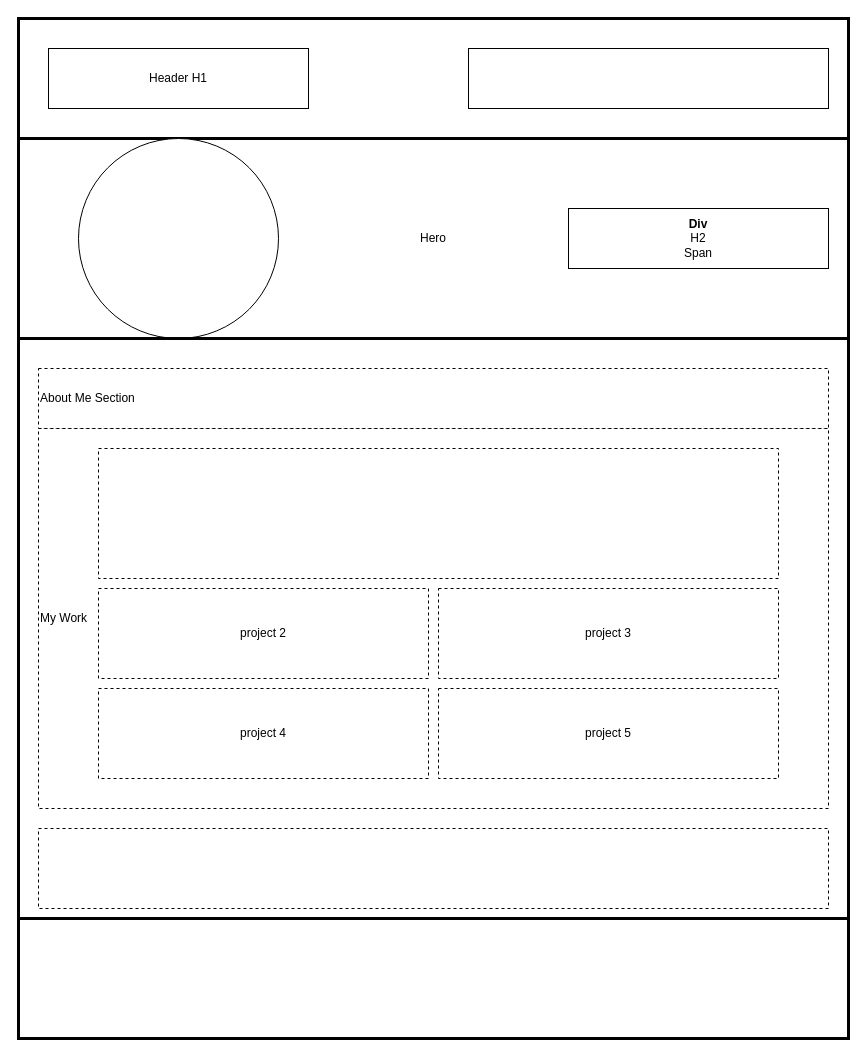
Image size: 867x1057. Some labels were removed from this diagram. Each missing label, with the centre of its shape:
"Contact Me" goes at (x=433, y=868).
"Footer" goes at (x=433, y=978).
"Header Nav1 - Nav2 - Nav3 - Nav4" goes at (x=648, y=78).
"Hero IMG" goes at (x=178, y=238).
"project 1" goes at (x=438, y=513).
